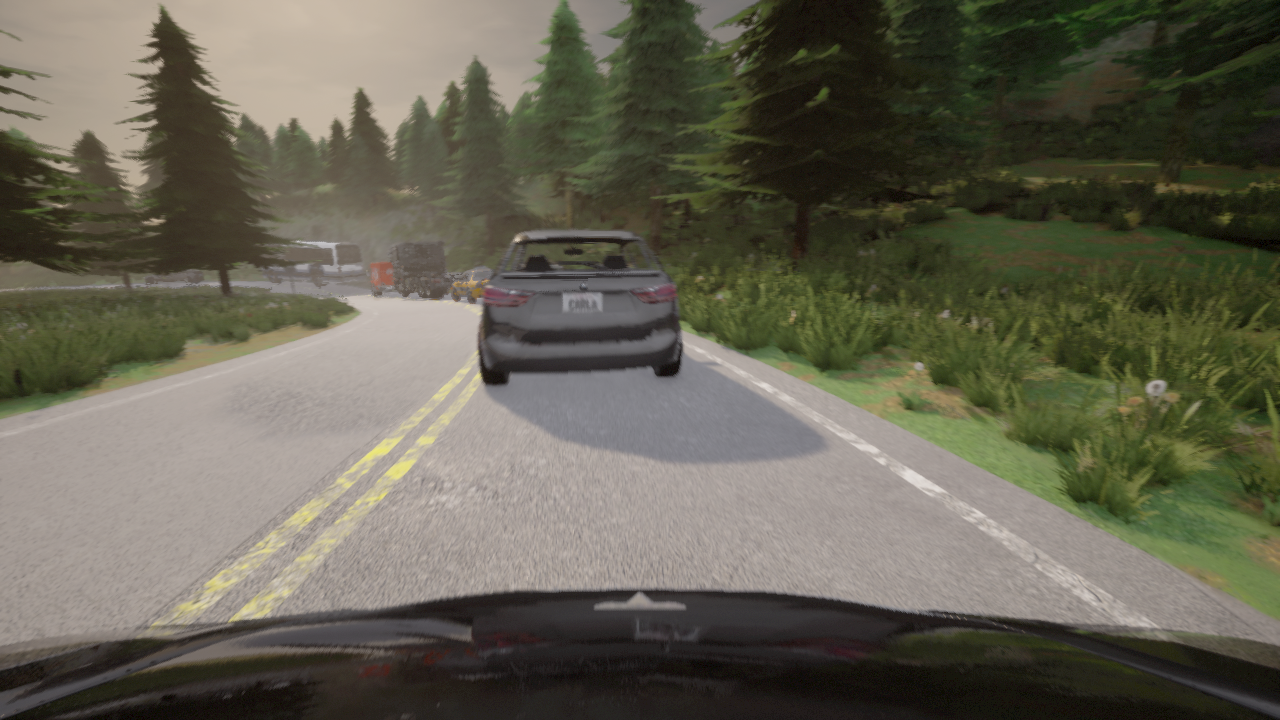cyclist: (0, 588, 1279, 719), (478, 230, 682, 385), (261, 241, 365, 287), (386, 240, 463, 299), (366, 262, 414, 296), (451, 267, 494, 302), (144, 269, 203, 284)
